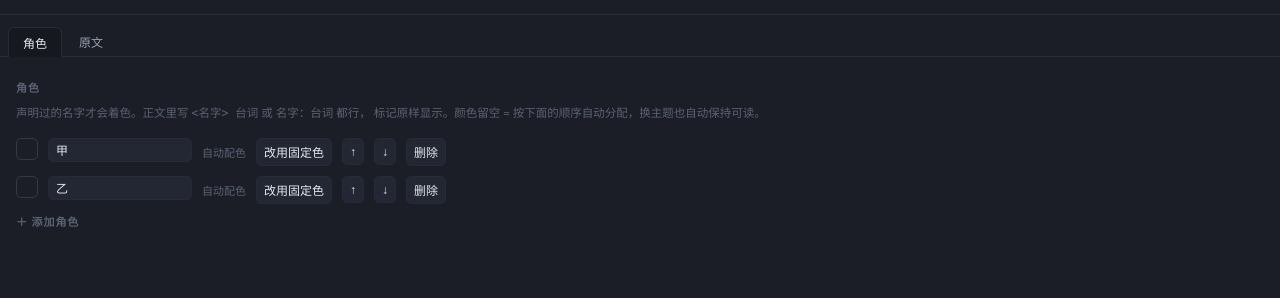
CharacterEditor › 重名被拒收：不写回文件，并给出错误提示
The width and height of the screenshot is (1280, 298).
Replace the text in the 1st field with "乙": (120, 150) [48,138,192,162]
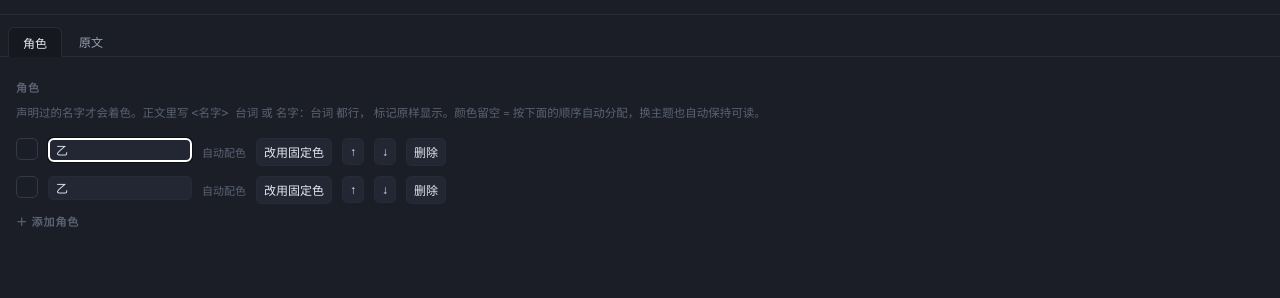
Press Tab
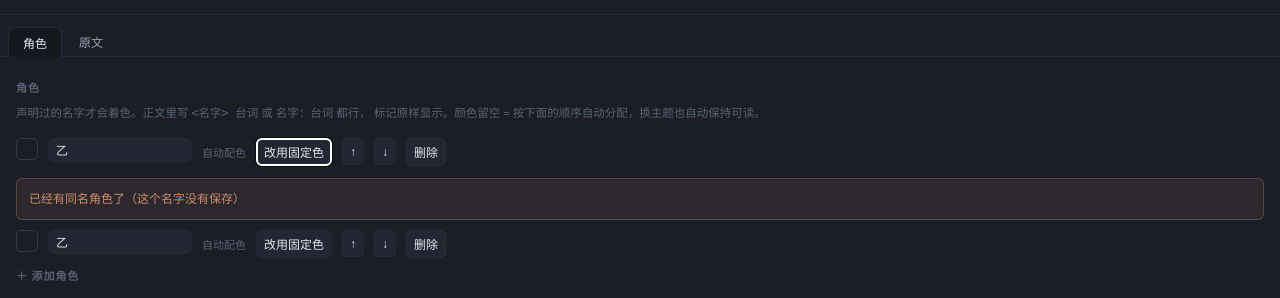
Result: the message shows "已经有同名角色" at [29,190,125,206]
